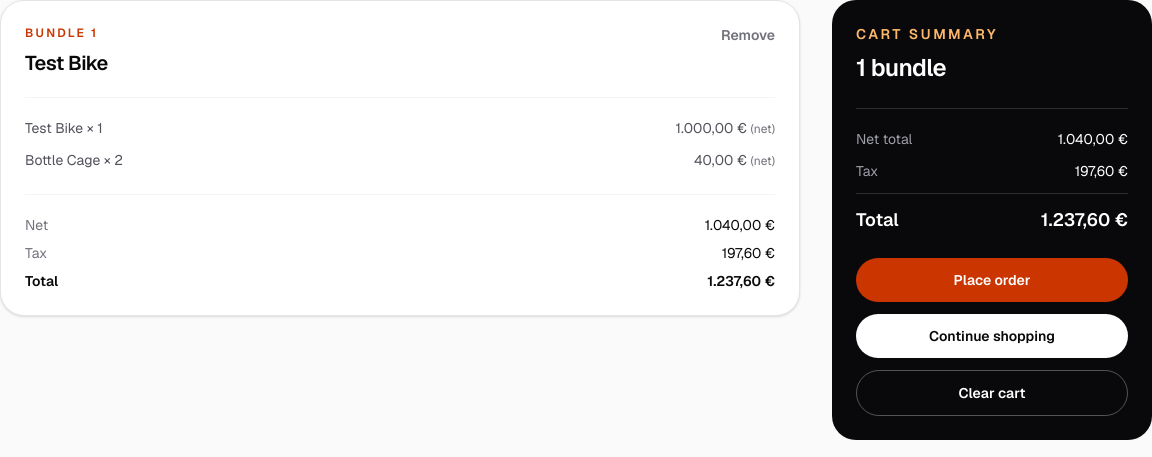
Test case: CartView › clears the cart after a successful simulated order
Click the button "Place order": x=992, y=280 top-left (856, 258), bottom-right (1128, 302)
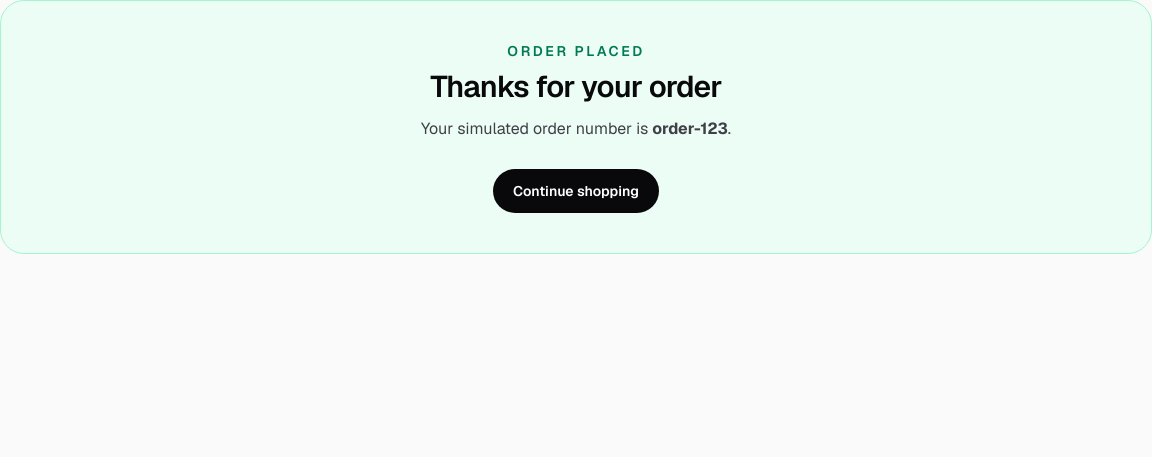
Now the heading "Thanks for your order" is shown, box top-left (430, 67), bottom-right (722, 106)
